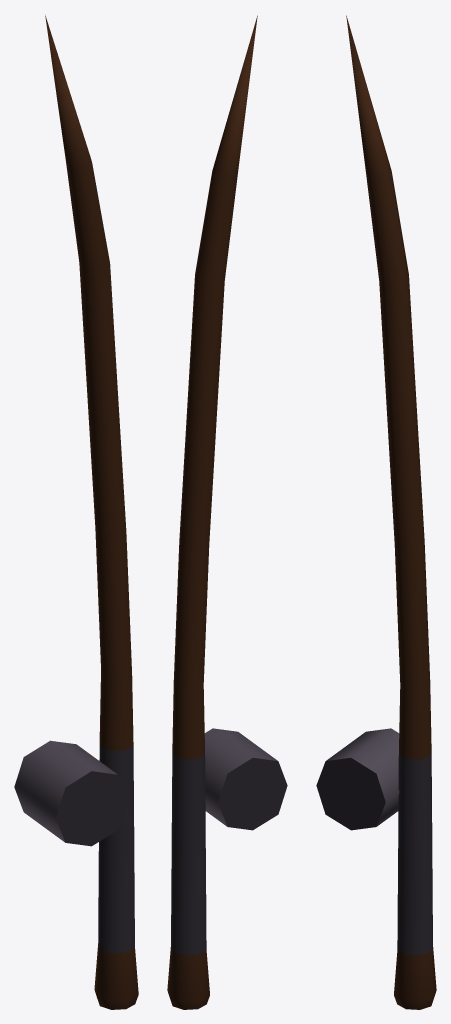
File: VillagerFishingPole.fbx
The picture shows the model from 3 angles, left to right: view 1: azimuth 30°, elevation 25°; view 2: azimuth 210°, elevation 25°; view 3: azimuth 330°, elevation 25°; orthographic projection. The views are drawn at different scales.
Parts seen in each view (by area): view 1: VillagerFishingPole; view 2: VillagerFishingPole; view 3: VillagerFishingPole.
Part boxes in pixels (x1,y1,x2,y2): VillagerFishingPole: [14, 15, 138, 1009]; VillagerFishingPole: [167, 15, 287, 1009]; VillagerFishingPole: [316, 15, 436, 1009].
Size of the model in its own units: 15.74 by 149 by 11.21.
